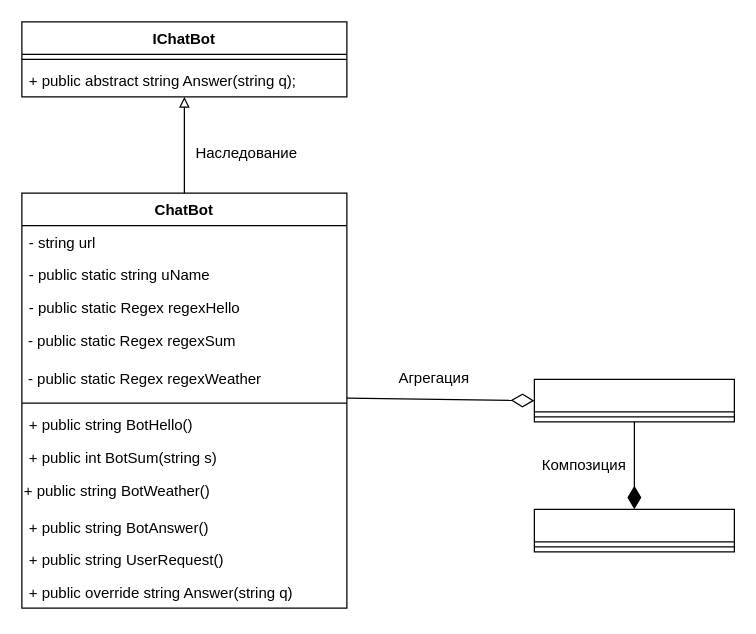
This 756x634 diagram has some shape labels left out. Here are the shapes that lost their labels. From the top down, the centre of each, then its label:
[633,400]: FormChat
[633,530]: FormUser
